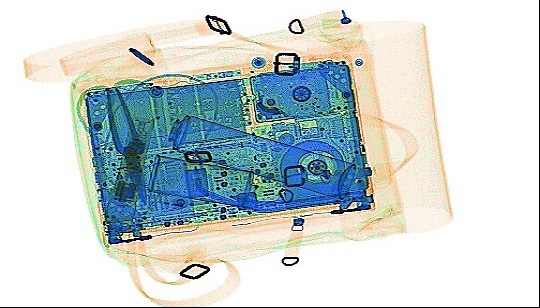pressure: (166, 114, 356, 198)
scissors: (74, 75, 163, 205)
zippooil: (144, 152, 257, 207)
